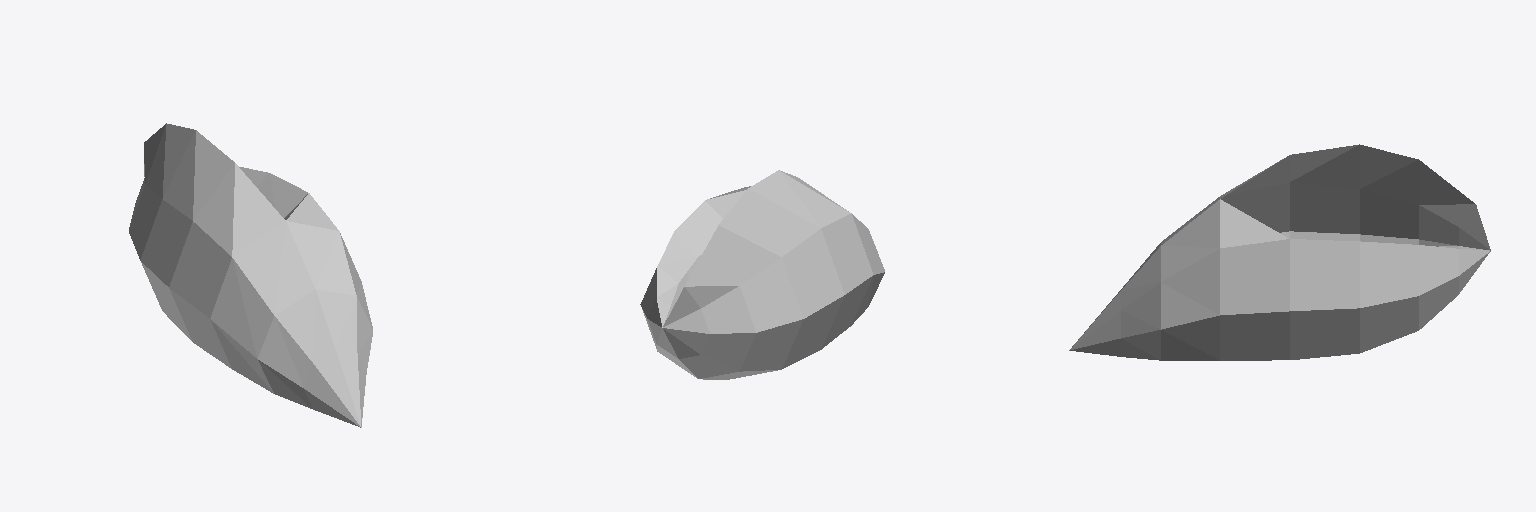
Rendered from shell.obj.
The picture shows the model from 3 angles: view 1: azimuth 30°, elevation 25°; view 2: azimuth 150°, elevation 25°; view 3: azimuth 270°, elevation 25°; orthographic projection.
Visible parts, largest first — view 1: Plane.001; view 2: Plane.001; view 3: Plane.001.
Boxes of the visible parts, box(x1,y1,x2,y2) form: Plane.001: box(129, 123, 372, 427); Plane.001: box(640, 170, 884, 379); Plane.001: box(1069, 144, 1490, 360).
Bounding box in the file's own units: 1.65 × 1.95 × 3.67.